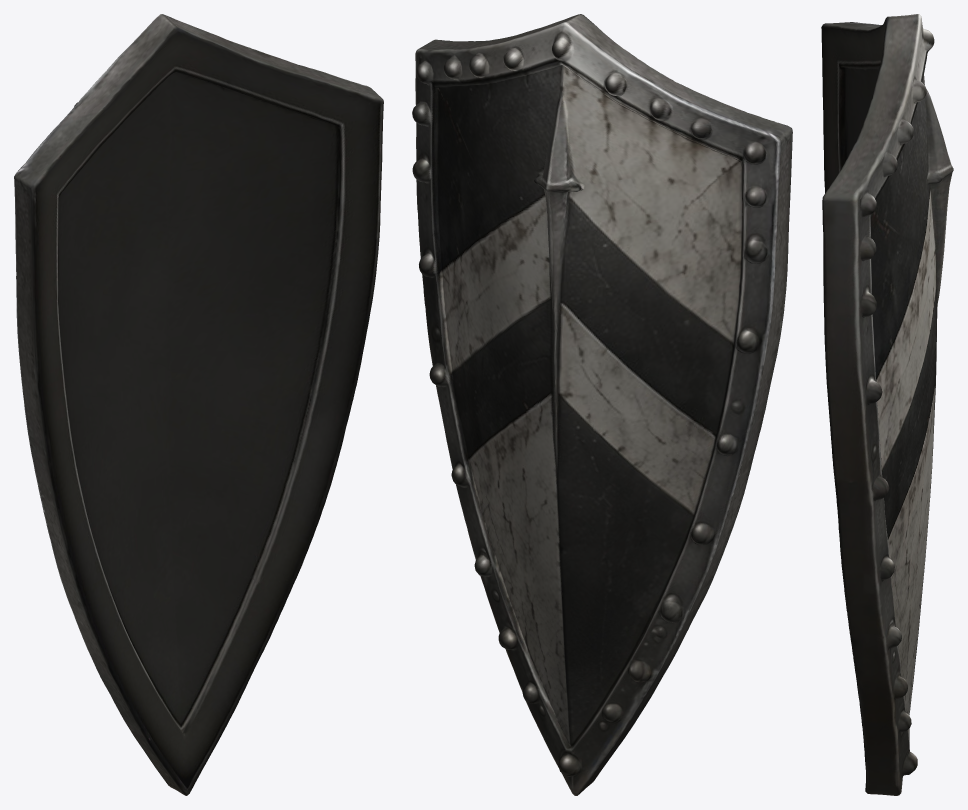
Rendered from kite_chevron.glb.
3 renders of one model, left to right at view 1: azimuth 30°, elevation 25°; view 2: azimuth 150°, elevation 25°; view 3: azimuth 270°, elevation 25°, orthographic. The views are drawn at different scales.
Parts seen in each view (by area): view 1: kite_chevron; view 2: kite_chevron; view 3: kite_chevron.
Part boxes in pixels (left/top/right/bottom): kite_chevron: left=14, top=14, right=383, bottom=795; kite_chevron: left=412, top=14, right=792, bottom=795; kite_chevron: left=821, top=14, right=953, bottom=795.
Size of the model in its own units: 0.4018 by 0.8213 by 0.1259.
Materials: 1 (1 with a texture image).
